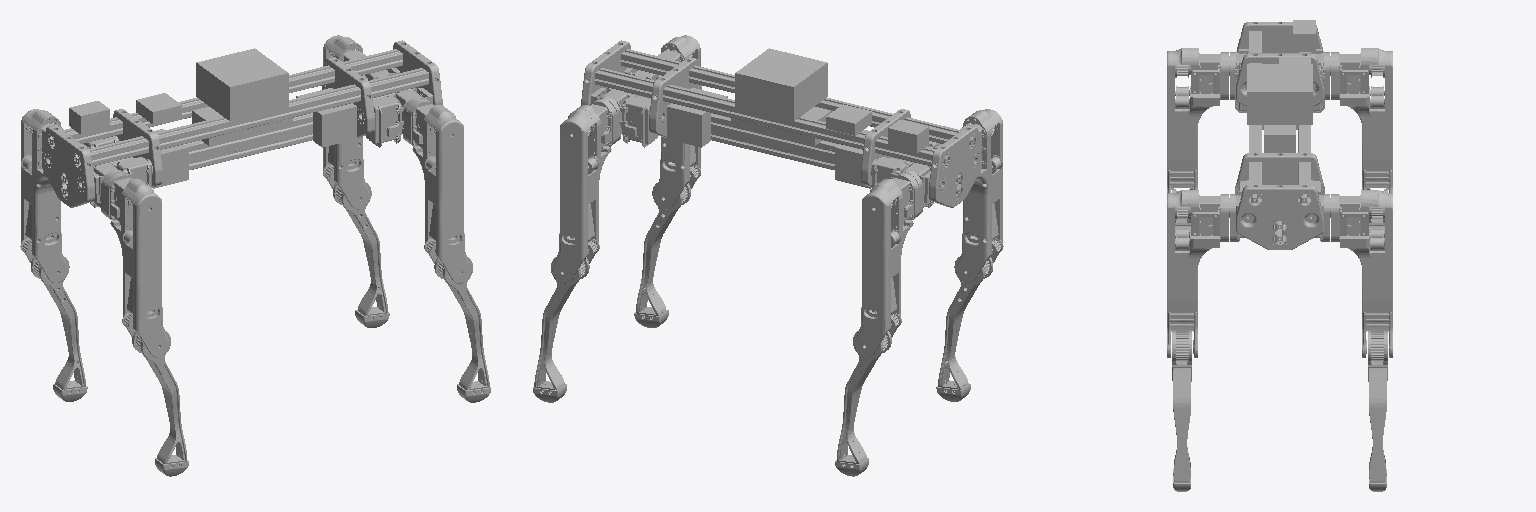
robot.urdf — k3lso_description:
<?xml version="1.0" encoding="utf-8"?>
<!-- This URDF was automatically created by SolidWorks to URDF Exporter! Originally created by [author] ([email redacted]) 
     Commit Version: 1.6.0-1-g15f4949  Build Version: 1.6.7594.29634
     For more information, please see http://wiki.ros.org/sw_urdf_exporter -->
<robot
  name="k3lso_description">
  <link
    name="base_link">
    <inertial>
      <origin
        xyz="-0.00739233246078444 0.001251077466079 0.00662070349108662"
        rpy="0 0 0" />
      <mass
        value="2.67359957469178" />
      <inertia
        ixx="0.00154049347454226"
        ixy="-2.897977906553E-10"
        ixz="-6.42629723006904E-08"
        iyy="0.0329180672164152"
        iyz="3.0980131521979E-08"
        izz="0.0332575711488391" />
    </inertial>
    <visual>
      <origin
        xyz="0 0 0"
        rpy="0 0 0" />
      <geometry>
        <mesh
          filename="package://k3lso_description/meshes/base_link.STL" />
      </geometry>
      <material
        name="">
        <color
          rgba="0.75 0.75 0.75 1.0" />
      </material>
    </visual>
    <collision>
      <origin
        xyz="0 0 0"
        rpy="0 0 0" />
      <geometry>
        <mesh
          filename="package://k3lso_description/meshes/base_link.STL" />
      </geometry>
    </collision>
  </link>
  <link
    name="fl_hip_link">
    <inertial>
      <origin
        xyz="-0.0191810147125931 0.00122473818326591 -0.015378670701294"
        rpy="0 0 0" />
      <mass
        value="0.361905860654274" />
      <inertia
        ixx="0.00014985854490653"
        ixy="1.28732033690927E-08"
        ixz="1.96044957351633E-06"
        iyy="0.000151152545335486"
        iyz="-2.00935252792269E-06"
        izz="9.31349861861388E-05" />
    </inertial>
    <visual>
      <origin
        xyz="0 0 0"
        rpy="0 0 0" />
      <geometry>
        <mesh
          filename="package://k3lso_description/meshes/fl_hip_link.STL" />
      </geometry>
      <material
        name="">
        <color
          rgba="0.75 0.75 0.75 1.0" />
      </material>
    </visual>
    <collision>
      <origin
        xyz="0 0 0"
        rpy="0 0 0" />
      <geometry>
        <mesh
          filename="package://k3lso_description/meshes/fl_hip_link.STL" />
      </geometry>
    </collision>
  </link>
  <joint
    name="fl_hip_joint"
    type="revolute">
    <origin
      xyz="0.258 0.0483200000000001 -0.0115000000000004"
      rpy="0 0 0" />
    <parent
      link="base_link" />
    <child
      link="fl_hip_link" />
    <axis
      xyz="1 0 0" />
    <limit
      lower="-0.35"
      upper="0.35"
      effort="0"
      velocity="0" />
  </joint>
  <link
    name="fl_upper_leg_link">
    <inertial>
      <origin
        xyz="0.00113935148516714 -0.0225424069533595 -0.0584608415203015"
        rpy="0 0 0" />
      <mass
        value="0.416782503209825" />
      <inertia
        ixx="0.000972695732982187"
        ixy="2.82086126832438E-06"
        ixz="9.85128273745611E-06"
        iyy="0.000981778999451202"
        iyz="2.73950990543459E-05"
        izz="0.000106317586096063" />
    </inertial>
    <visual>
      <origin
        xyz="0 0 0"
        rpy="0 0 0" />
      <geometry>
        <mesh
          filename="package://k3lso_description/meshes/fl_upper_leg_link.STL" />
      </geometry>
      <material
        name="">
        <color
          rgba="0.75 0.75 0.75 1.0" />
      </material>
    </visual>
    <collision>
      <origin
        xyz="0 0 0"
        rpy="0 0 0" />
      <geometry>
        <mesh
          filename="package://k3lso_description/meshes/fl_upper_leg_link.STL" />
      </geometry>
    </collision>
  </link>
  <joint
    name="fl_upper_leg_joint"
    type="revolute">
    <origin
      xyz="0 0.10214 0"
      rpy="0 0 0" />
    <parent
      link="fl_hip_link" />
    <child
      link="fl_upper_leg_link" />
    <axis
      xyz="0 1 0" />
    <limit
      lower="0"
      upper="1.5708"
      effort="0"
      velocity="0" />
  </joint>
  <link
    name="fl_lower_leg_link">
    <inertial>
      <origin
        xyz="0.0149934705778162 0.000342520272070934 -0.0623609339731653"
        rpy="0 0 0" />
      <mass
        value="0.0814925900390804" />
      <inertia
        ixx="0.000317010935116354"
        ixy="1.17776172505376E-08"
        ixz="5.66437323223509E-05"
        iyy="0.000335028148651086"
        iyz="-4.57217466389779E-08"
        izz="2.11846868448168E-05" />
    </inertial>
    <visual>
      <origin
        xyz="0 0 0"
        rpy="0 0 0" />
      <geometry>
        <mesh
          filename="package://k3lso_description/meshes/fl_lower_leg_link.STL" />
      </geometry>
      <material
        name="">
        <color
          rgba="0.75 0.75 0.75 1.0" />
      </material>
    </visual>
    <collision>
      <origin
        xyz="0 0 0"
        rpy="0 0 0" />
      <geometry>
        <mesh
          filename="package://k3lso_description/meshes/fl_lower_leg_link.STL" />
      </geometry>
    </collision>
  </link>
  <joint
    name="fl_lower_leg_joint"
    type="revolute">
    <origin
      xyz="0.0161607423810583 -0.000530000000205255 -0.228483810585453"
      rpy="0 0 0" />
    <parent
      link="fl_upper_leg_link" />
    <child
      link="fl_lower_leg_link" />
    <axis
      xyz="0 1 0" />
    <limit
      lower="0"
      upper="-2.44"
      effort="0"
      velocity="0" />
  </joint>
  <link
    name="fl_foot_link">
    <inertial>
      <origin
        xyz="-0.00028472092601084 -3.37349589791258E-05 0.0130297730858282"
        rpy="0 0 0" />
      <mass
        value="0.012000023483409" />
      <inertia
        ixx="1.51877694957435E-06"
        ixy="-4.31215254596068E-10"
        ixz="1.73807358717553E-07"
        iyy="2.56057174066582E-06"
        iyz="-1.10399325331397E-09"
        izz="3.04419723664886E-06" />
    </inertial>
    <visual>
      <origin
        xyz="0 0 0"
        rpy="0 0 0" />
      <geometry>
        <mesh
          filename="package://k3lso_description/meshes/fl_foot_link.STL" />
      </geometry>
      <material
        name="">
        <color
          rgba="0.75 0.75 0.75 1.0" />
      </material>
    </visual>
    <collision>
      <origin
        xyz="0 0 0"
        rpy="0 0 0" />
      <geometry>
        <mesh
          filename="package://k3lso_description/meshes/fl_foot_link.STL" />
      </geometry>
    </collision>
  </link>
  <joint
    name="fl_foot_joint"
    type="fixed">
    <origin
      xyz="0.0338665592030153 0.000299999999809231 -0.226407593335961"
      rpy="0 0 0" />
    <parent
      link="fl_lower_leg_link" />
    <child
      link="fl_foot_link" />
    <axis
      xyz="0 0 0" />
  </joint>
  <link
    name="fr_hip_link">
    <inertial>
      <origin
        xyz="-0.0191777069786889 -0.00122804603399052 -0.0153785834928769"
        rpy="0 0 0" />
      <mass
        value="0.361905860839119" />
      <inertia
        ixx="0.000149858544907907"
        ixy="-1.28731096839919E-08"
        ixz="1.95418511590237E-06"
        iyy="0.000151152545339881"
        iyz="2.01560635881248E-06"
        izz="9.31349861841014E-05" />
    </inertial>
    <visual>
      <origin
        xyz="0 0 0"
        rpy="0 0 0" />
      <geometry>
        <mesh
          filename="package://k3lso_description/meshes/fr_hip_link.STL" />
      </geometry>
      <material
        name="">
        <color
          rgba="0.75 0.75 0.75 1.0" />
      </material>
    </visual>
    <collision>
      <origin
        xyz="0 0 0"
        rpy="0 0 0" />
      <geometry>
        <mesh
          filename="package://k3lso_description/meshes/fr_hip_link.STL" />
      </geometry>
    </collision>
  </link>
  <joint
    name="fr_hip_joint"
    type="revolute">
    <origin
      xyz="0.257999999999997 -0.0483199999999994 -0.0114999999999963"
      rpy="0 0 0" />
    <parent
      link="base_link" />
    <child
      link="fr_hip_link" />
    <axis
      xyz="1 0 0" />
    <limit
      lower="-0.35"
      upper="0.35"
      effort="0"
      velocity="0" />
  </joint>
  <link
    name="fr_upper_leg_link">
    <inertial>
      <origin
        xyz="0.0011997287461088 0.0225423115073111 -0.058461515616595"
        rpy="0 0 0" />
      <mass
        value="0.41678216920609" />
      <inertia
        ixx="0.000972690033119205"
        ixy="-2.82974041548496E-06"
        ixz="9.84424977581989E-06"
        iyy="0.000981773743083285"
        iyz="-2.73941433285389E-05"
        izz="0.000106317492885937" />
    </inertial>
    <visual>
      <origin
        xyz="0 0 0"
        rpy="0 0 0" />
      <geometry>
        <mesh
          filename="package://k3lso_description/meshes/fr_upper_leg_link.STL" />
      </geometry>
      <material
        name="">
        <color
          rgba="0.75 0.75 0.75 1.0" />
      </material>
    </visual>
    <collision>
      <origin
        xyz="0 0 0"
        rpy="0 0 0" />
      <geometry>
        <mesh
          filename="package://k3lso_description/meshes/fr_upper_leg_link.STL" />
      </geometry>
    </collision>
  </link>
  <joint
    name="fr_upper_leg_joint"
    type="revolute">
    <origin
      xyz="0 -0.10214 0"
      rpy="0 0 0" />
    <parent
      link="fr_hip_link" />
    <child
      link="fr_upper_leg_link" />
    <axis
      xyz="0 1 0" />
    <limit
      lower="0"
      upper="1.5708"
      effort="0"
      velocity="0" />
  </joint>
  <link
    name="fr_lower_leg_link">
    <inertial>
      <origin
        xyz="0.0149911389205495 -0.000342927955430006 -0.0623616619878861"
        rpy="0 0 0" />
      <mass
        value="0.0814925900029973" />
      <inertia
        ixx="0.000317010982051928"
        ixy="-1.20390337749234E-08"
        ixz="5.66437510019922E-05"
        iyy="0.000335028205331186"
        iyz="4.66250518431126E-08"
        izz="2.11846955434795E-05" />
    </inertial>
    <visual>
      <origin
        xyz="0 0 0"
        rpy="0 0 0" />
      <geometry>
        <mesh
          filename="package://k3lso_description/meshes/fr_lower_leg_link.STL" />
      </geometry>
      <material
        name="">
        <color
          rgba="0.75 0.75 0.75 1.0" />
      </material>
    </visual>
    <collision>
      <origin
        xyz="0 0 0"
        rpy="0 0 0" />
      <geometry>
        <mesh
          filename="package://k3lso_description/meshes/fr_lower_leg_link.STL" />
      </geometry>
    </collision>
  </link>
  <joint
    name="fr_lower_leg_joint"
    type="revolute">
    <origin
      xyz="0.0161607423810464 0.000529999999999919 -0.228483810585452"
      rpy="0 0 0" />
    <parent
      link="fr_upper_leg_link" />
    <child
      link="fr_lower_leg_link" />
    <axis
      xyz="0 1 0" />
    <limit
      lower="0"
      upper="-2.44"
      effort="0"
      velocity="0" />
  </joint>
  <link
    name="fr_foot_link">
    <inertial>
      <origin
        xyz="-0.000273275496567527 3.35409523597452E-05 0.0130301914182012"
        rpy="0 0 0" />
      <mass
        value="0.0120001410586316" />
      <inertia
        ixx="1.51848549028193E-06"
        ixy="4.23697908125798E-10"
        ixz="1.73812723416552E-07"
        iyy="2.56067466751066E-06"
        iyz="1.09467932324709E-09"
        izz="3.04460047786514E-06" />
    </inertial>
    <visual>
      <origin
        xyz="0 0 0"
        rpy="0 0 0" />
      <geometry>
        <mesh
          filename="package://k3lso_description/meshes/fr_foot_link.STL" />
      </geometry>
      <material
        name="">
        <color
          rgba="0.75 0.75 0.75 1.0" />
      </material>
    </visual>
    <collision>
      <origin
        xyz="0 0 0"
        rpy="0 0 0" />
      <geometry>
        <mesh
          filename="package://k3lso_description/meshes/fr_foot_link.STL" />
      </geometry>
    </collision>
  </link>
  <joint
    name="fr_foot_joint"
    type="fixed">
    <origin
      xyz="0.0338546104547882 -0.000299999999976874 -0.226407593335965"
      rpy="0 0 0" />
    <parent
      link="fr_lower_leg_link" />
    <child
      link="fr_foot_link" />
    <axis
      xyz="0 0 0" />
  </joint>
  <link
    name="rl_hip_link">
    <inertial>
      <origin
        xyz="0.019177706978689 0.00122804603399018 -0.0153785834928772"
        rpy="0 0 0" />
      <mass
        value="0.361905860839118" />
      <inertia
        ixx="0.000149858544907907"
        ixy="-1.28731096840444E-08"
        ixz="-1.95418511590256E-06"
        iyy="0.000151152545339881"
        iyz="-2.01560635881281E-06"
        izz="9.31349861841012E-05" />
    </inertial>
    <visual>
      <origin
        xyz="0 0 0"
        rpy="0 0 0" />
      <geometry>
        <mesh
          filename="package://k3lso_description/meshes/rl_hip_link.STL" />
      </geometry>
      <material
        name="">
        <color
          rgba="0.75 0.75 0.75 1.0" />
      </material>
    </visual>
    <collision>
      <origin
        xyz="0 0 0"
        rpy="0 0 0" />
      <geometry>
        <mesh
          filename="package://k3lso_description/meshes/rl_hip_link.STL" />
      </geometry>
    </collision>
  </link>
  <joint
    name="rl_hip_joint"
    type="revolute">
    <origin
      xyz="-0.258 0.04832 -0.0115"
      rpy="0 0 0" />
    <parent
      link="base_link" />
    <child
      link="rl_hip_link" />
    <axis
      xyz="1 0 0" />
    <limit
      lower="-0.35"
      upper="0.35"
      effort="0"
      velocity="0" />
  </joint>
  <link
    name="rl_upper_leg_link">
    <inertial>
      <origin
        xyz="0.00115402660377568 -0.0230111146735042 -0.0592142233666892"
        rpy="0 0 0" />
      <mass
        value="0.411482509979645" />
      <inertia
        ixx="0.000972578207881302"
        ixy="2.82086126679539E-06"
        ixz="9.85128269252639E-06"
        iyy="0.00098156697230124"
        iyz="2.7395099060638E-05"
        izz="0.000106200061173798" />
    </inertial>
    <visual>
      <origin
        xyz="0 0 0"
        rpy="0 0 0" />
      <geometry>
        <mesh
          filename="package://k3lso_description/meshes/rl_upper_leg_link.STL" />
      </geometry>
      <material
        name="">
        <color
          rgba="0.75 0.75 0.75 1.0" />
      </material>
    </visual>
    <collision>
      <origin
        xyz="0 0 0"
        rpy="0 0 0" />
      <geometry>
        <mesh
          filename="package://k3lso_description/meshes/rl_upper_leg_link.STL" />
      </geometry>
    </collision>
  </link>
  <joint
    name="rl_upper_leg_joint"
    type="revolute">
    <origin
      xyz="0 0.102139998504721 0"
      rpy="0 0 0" />
    <parent
      link="rl_hip_link" />
    <child
      link="rl_upper_leg_link" />
    <axis
      xyz="0 1 0" />
    <limit
      lower="0"
      upper="1.5708"
      effort="0"
      velocity="0" />
  </joint>
  <link
    name="rl_lower_leg_link">
    <inertial>
      <origin
        xyz="0.0149934705743697 0.000342520261545881 -0.0623609339718348"
        rpy="0 0 0" />
      <mass
        value="0.0814925901049922" />
      <inertia
        ixx="0.000317010935198327"
        ixy="1.17776122636179E-08"
        ixz="5.66437323496179E-05"
        iyy="0.000335028148738892"
        iyz="-4.57217315291434E-08"
        izz="2.1184686858647E-05" />
    </inertial>
    <visual>
      <origin
        xyz="0 0 0"
        rpy="0 0 0" />
      <geometry>
        <mesh
          filename="package://k3lso_description/meshes/rl_lower_leg_link.STL" />
      </geometry>
      <material
        name="">
        <color
          rgba="0.75 0.75 0.75 1.0" />
      </material>
    </visual>
    <collision>
      <origin
        xyz="0 0 0"
        rpy="0 0 0" />
      <geometry>
        <mesh
          filename="package://k3lso_description/meshes/rl_lower_leg_link.STL" />
      </geometry>
    </collision>
  </link>
  <joint
    name="rl_lower_leg_joint"
    type="revolute">
    <origin
      xyz="0.0161607423810425 -0.000529999999999919 -0.228483810585461"
      rpy="0 0 0" />
    <parent
      link="rl_upper_leg_link" />
    <child
      link="rl_lower_leg_link" />
    <axis
      xyz="0 1 0" />
    <limit
      lower="0"
      upper="-2.44"
      effort="0"
      velocity="0" />
  </joint>
  <link
    name="rl_foot_link">
    <inertial>
      <origin
        xyz="-0.000284720926011004 -3.37349589792368E-05 0.0130297730858287"
        rpy="0 0 0" />
      <mass
        value="0.0120000234834092" />
      <inertia
        ixx="1.51877694957437E-06"
        ixy="-4.31215254599135E-10"
        ixz="1.73807358717541E-07"
        iyy="2.56057174066583E-06"
        iyz="-1.10399325332327E-09"
        izz="3.04419723664889E-06" />
    </inertial>
    <visual>
      <origin
        xyz="0 0 0"
        rpy="0 0 0" />
      <geometry>
        <mesh
          filename="package://k3lso_description/meshes/rl_foot_link.STL" />
      </geometry>
      <material
        name="">
        <color
          rgba="0.75 0.75 0.75 1.0" />
      </material>
    </visual>
    <collision>
      <origin
        xyz="0 0 0"
        rpy="0 0 0" />
      <geometry>
        <mesh
          filename="package://k3lso_description/meshes/rl_foot_link.STL" />
      </geometry>
    </collision>
  </link>
  <joint
    name="rl_foot_joint"
    type="fixed">
    <origin
      xyz="0.0338665592030865 0.000300000000012207 -0.226407593335961"
      rpy="0 0 0" />
    <parent
      link="rl_lower_leg_link" />
    <child
      link="rl_foot_link" />
    <axis
      xyz="0 0 0" />
  </joint>
  <link
    name="rr_hip_link">
    <inertial>
      <origin
        xyz="0.0191810146911688 -0.00122473818028979 -0.0153786706989408"
        rpy="0 0 0" />
      <mass
        value="0.361905860839118" />
      <inertia
        ixx="0.000149858544907906"
        ixy="1.28732047427799E-08"
        ixz="-1.96044957625584E-06"
        iyy="0.00015115254533988"
        iyz="2.00935252063576E-06"
        izz="9.31349861841012E-05" />
    </inertial>
    <visual>
      <origin
        xyz="0 0 0"
        rpy="0 0 0" />
      <geometry>
        <mesh
          filename="package://k3lso_description/meshes/rr_hip_link.STL" />
      </geometry>
      <material
        name="">
        <color
          rgba="0.75 0.75 0.75 1.0" />
      </material>
    </visual>
    <collision>
      <origin
        xyz="0 0 0"
        rpy="0 0 0" />
      <geometry>
        <mesh
          filename="package://k3lso_description/meshes/rr_hip_link.STL" />
      </geometry>
    </collision>
  </link>
  <joint
    name="rr_hip_joint"
    type="revolute">
    <origin
      xyz="-0.258000000000003 -0.0483199999999995 -0.0114999999999966"
      rpy="0 0 0" />
    <parent
      link="base_link" />
    <child
      link="rr_hip_link" />
    <axis
      xyz="1 0 0" />
    <limit
      lower="-0.35"
      upper="0.35"
      effort="0"
      velocity="0" />
  </joint>
  <link
    name="rr_upper_leg_link">
    <inertial>
      <origin
        xyz="0.00119972874660768 0.0102023130026365 -0.0584615156193192"
        rpy="0 0 0" />
      <mass
        value="0.416782169214532" />
      <inertia
        ixx="0.000972690033197098"
        ixy="-2.82974041616349E-06"
        ixz="9.84424979437025E-06"
        iyy="0.000981773743165461"
        iyz="-2.73941433257563E-05"
        izz="0.000106317492890525" />
    </inertial>
    <visual>
      <origin
        xyz="0 0 0"
        rpy="0 0 0" />
      <geometry>
        <mesh
          filename="package://k3lso_description/meshes/rr_upper_leg_link.STL" />
      </geometry>
      <material
        name="">
        <color
          rgba="0.75 0.75 0.75 1.0" />
      </material>
    </visual>
    <collision>
      <origin
        xyz="0 0 0"
        rpy="0 0 0" />
      <geometry>
        <mesh
          filename="package://k3lso_description/meshes/rr_upper_leg_link.STL" />
      </geometry>
    </collision>
  </link>
  <joint
    name="rr_upper_leg_joint"
    type="revolute">
    <origin
      xyz="0 -0.0898 0"
      rpy="0 0 0" />
    <parent
      link="rr_hip_link" />
    <child
      link="rr_upper_leg_link" />
    <axis
      xyz="0 1 0" />
    <limit
      lower="0"
      upper="1.5708"
      effort="0"
      velocity="0" />
  </joint>
  <link
    name="rr_lower_leg_link">
    <inertial>
      <origin
        xyz="0.014991138923116 -0.000342927944178117 -0.0623616619890701"
        rpy="0 0 0" />
      <mass
        value="0.0814925899494863" />
      <inertia
        ixx="0.000317010981986745"
        ixy="-1.20390280261771E-08"
        ixz="5.6643750981262E-05"
        iyy="0.000335028205262079"
        iyz="4.66250354414758E-08"
        izz="2.1184695533188E-05" />
    </inertial>
    <visual>
      <origin
        xyz="0 0 0"
        rpy="0 0 0" />
      <geometry>
        <mesh
          filename="package://k3lso_description/meshes/rr_lower_leg_link.STL" />
      </geometry>
      <material
        name="">
        <color
          rgba="0.75 0.75 0.75 1.0" />
      </material>
    </visual>
    <collision>
      <origin
        xyz="0 0 0"
        rpy="0 0 0" />
      <geometry>
        <mesh
          filename="package://k3lso_description/meshes/rr_lower_leg_link.STL" />
      </geometry>
    </collision>
  </link>
  <joint
    name="rr_lower_leg_joint"
    type="revolute">
    <origin
      xyz="0.0161607423810436 -0.0118099985047229 -0.228483810585451"
      rpy="0 0 0" />
    <parent
      link="rr_upper_leg_link" />
    <child
      link="rr_lower_leg_link" />
    <axis
      xyz="0 1 0" />
    <limit
      lower="0"
      upper="-2.44"
      effort="0"
      velocity="0" />
  </joint>
  <link
    name="rr_foot_link">
    <inertial>
      <origin
        xyz="-0.000273275496567766 3.35409523594121E-05 0.0130301914182054"
        rpy="0 0 0" />
      <mass
        value="0.0120001410586314" />
      <inertia
        ixx="1.51848549028193E-06"
        ixy="4.23697908133254E-10"
        ixz="1.73812723416581E-07"
        iyy="2.56067466751064E-06"
        iyz="1.09467932323396E-09"
        izz="3.04460047786511E-06" />
    </inertial>
    <visual>
      <origin
        xyz="0 0 0"
        rpy="0 0 0" />
      <geometry>
        <mesh
          filename="package://k3lso_description/meshes/rr_foot_link.STL" />
      </geometry>
      <material
        name="">
        <color
          rgba="0.75 0.75 0.75 1.0" />
      </material>
    </visual>
    <collision>
      <origin
        xyz="0 0 0"
        rpy="0 0 0" />
      <geometry>
        <mesh
          filename="package://k3lso_description/meshes/rr_foot_link.STL" />
      </geometry>
    </collision>
  </link>
  <joint
    name="rr_foot_joint"
    type="fixed">
    <origin
      xyz="0.0338546104547864 -0.000299999999976319 -0.226407593335969"
      rpy="0 0 0" />
    <parent
      link="rr_lower_leg_link" />
    <child
      link="rr_foot_link" />
    <axis
      xyz="0 0 0" />
  </joint>
</robot>

--- Render facts (derived) ---
3 views of the same robot in one strip: view 1: azimuth 30°, elevation 25°; view 2: azimuth 150°, elevation 25°; view 3: azimuth 270°, elevation 25° (orthographic).
Model k3lso_description with 17 links and 16 joints (12 revolute, 4 fixed), rooted at base_link, posed all joints at 0.
Links seen in each view (by area): view 1: base_link, fr_upper_leg_link, rr_upper_leg_link, rl_upper_leg_link, fl_upper_leg_link, rr_lower_leg_link, fr_lower_leg_link, rl_lower_leg_link, fl_lower_leg_link, fr_hip_link, rr_hip_link; view 2: base_link, fl_upper_leg_link, rl_upper_leg_link, rr_upper_leg_link, fr_upper_leg_link, rl_lower_leg_link, fl_lower_leg_link, fr_lower_leg_link, rr_lower_leg_link, fl_hip_link, rl_hip_link; view 3: base_link, fr_upper_leg_link, fl_upper_leg_link, rr_upper_leg_link, rl_upper_leg_link, fl_lower_leg_link, fr_lower_leg_link, rr_hip_link, fl_hip_link, fr_hip_link, rl_hip_link.
Link boxes in pixels (<box>): base_link: <box>42,40,442,207</box>; fr_upper_leg_link: <box>407,99,471,283</box>; rr_upper_leg_link: <box>105,172,168,357</box>; rl_upper_leg_link: <box>20,109,67,282</box>; fl_upper_leg_link: <box>323,35,369,209</box>; rr_lower_leg_link: <box>132,331,186,463</box>; fr_lower_leg_link: <box>434,257,489,392</box>; rl_lower_leg_link: <box>31,257,85,389</box>; fl_lower_leg_link: <box>333,183,387,317</box>; fr_hip_link: <box>366,88,432,147</box>; rr_hip_link: <box>90,157,152,216</box>; base_link: <box>581,40,981,207</box>; fl_upper_leg_link: <box>552,99,616,283</box>; rl_upper_leg_link: <box>855,172,918,357</box>; rr_upper_leg_link: <box>956,109,1003,282</box>; fr_upper_leg_link: <box>654,35,700,209</box>; rl_lower_leg_link: <box>837,331,891,463</box>; fl_lower_leg_link: <box>534,257,589,392</box>; fr_lower_leg_link: <box>636,183,690,317</box>; rr_lower_leg_link: <box>938,257,992,389</box>; fl_hip_link: <box>591,88,657,147</box>; rl_hip_link: <box>871,157,933,216</box>; base_link: <box>1236,20,1323,249</box>; fr_upper_leg_link: <box>1167,190,1229,357</box>; fl_upper_leg_link: <box>1330,190,1392,357</box>; rr_upper_leg_link: <box>1167,48,1229,192</box>; rl_upper_leg_link: <box>1330,48,1392,192</box>; fl_lower_leg_link: <box>1368,331,1387,482</box>; fr_lower_leg_link: <box>1172,331,1191,482</box>; rr_hip_link: <box>1230,49,1248,112</box>; fl_hip_link: <box>1306,180,1329,241</box>; fr_hip_link: <box>1230,180,1253,241</box>; rl_hip_link: <box>1311,49,1329,112</box>.
Bounding box of the posed robot: 0.6356 × 0.3479 × 0.5551 m (x, y, z).
Meshes: 17 distinct files referenced, 17 mesh visuals loaded (17 binary STL).
